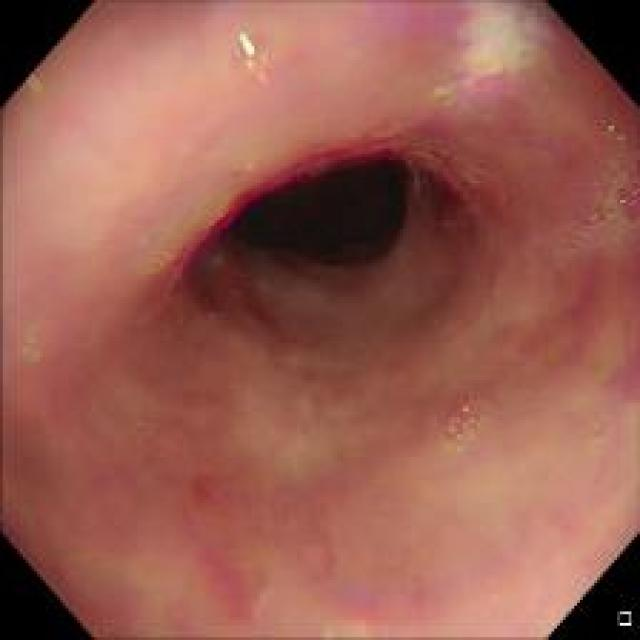bubbles: (560, 158, 638, 244), (445, 389, 489, 452), (588, 420, 609, 444), (132, 416, 150, 439)
color misalignment: (170, 110, 498, 284), (378, 1, 555, 108), (228, 26, 268, 76), (595, 185, 635, 228), (455, 398, 476, 421), (25, 71, 45, 94)
contrast: (206, 140, 424, 282)
